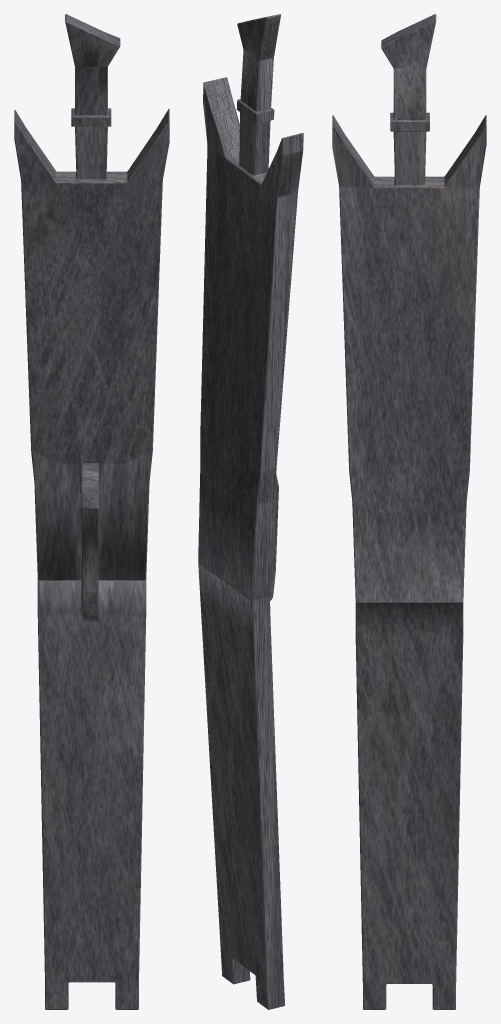
File: Kingon.glb
The picture shows the model from 3 angles, left to right: view 1: azimuth 90°, elevation 25°; view 2: azimuth 210°, elevation 25°; view 3: azimuth 270°, elevation 25°; orthographic projection.
Visible parts, largest first — view 1: pCube6.001; view 2: pCube6.001; view 3: pCube6.001.
Part boxes in pixels (box(x1,y1,x2,y2)): pCube6.001: box(14, 14, 169, 1009); pCube6.001: box(198, 14, 303, 1009); pCube6.001: box(332, 14, 486, 1009).
Size of the model in its own units: 0.1552 by 2.94 by 0.4183.
1 material, 1 textured.
